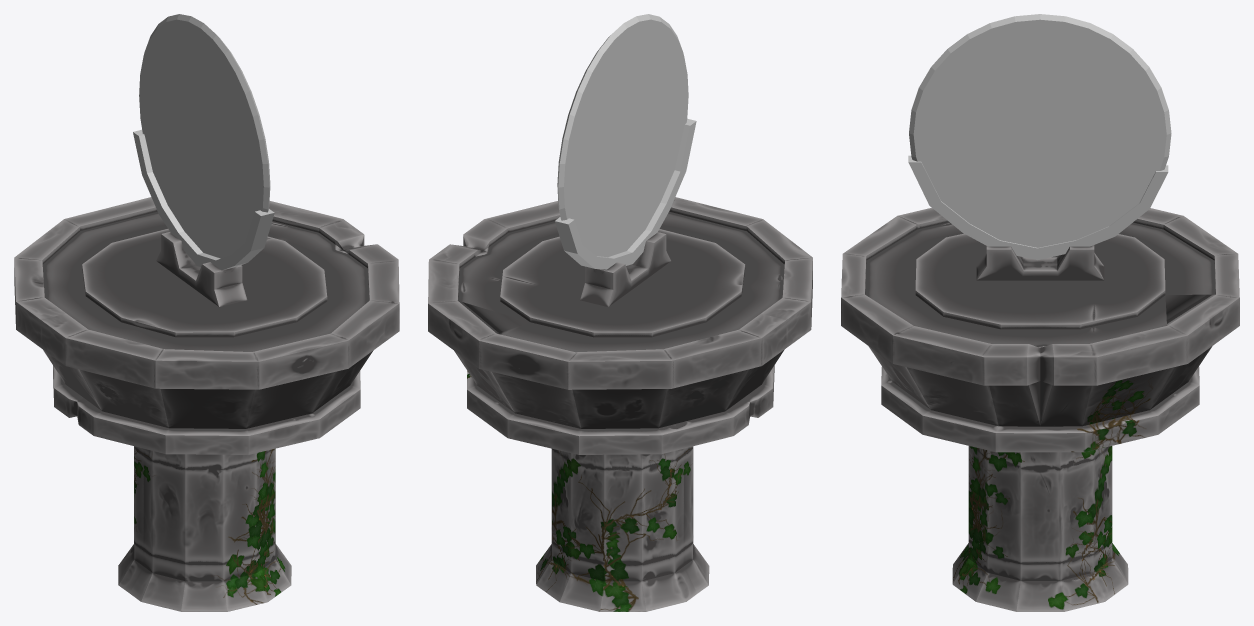
Rendered from MSH_miror_low.fbx.
The picture shows the model from 3 angles, left to right: view 1: azimuth 30°, elevation 25°; view 2: azimuth 150°, elevation 25°; view 3: azimuth 270°, elevation 25°; orthographic projection.
Parts seen in each view (by area): view 1: socle, miror; view 2: socle, miror; view 3: socle, miror.
Boxes of the visible parts, <box> form: socle: <box>14,197,399,611</box>; miror: <box>133,14,274,270</box>; socle: <box>428,197,812,611</box>; miror: <box>555,14,696,269</box>; socle: <box>841,207,1239,611</box>; miror: <box>908,14,1171,260</box>.
Bounding box in the file's own units: 67.41 × 108 × 69.49.
